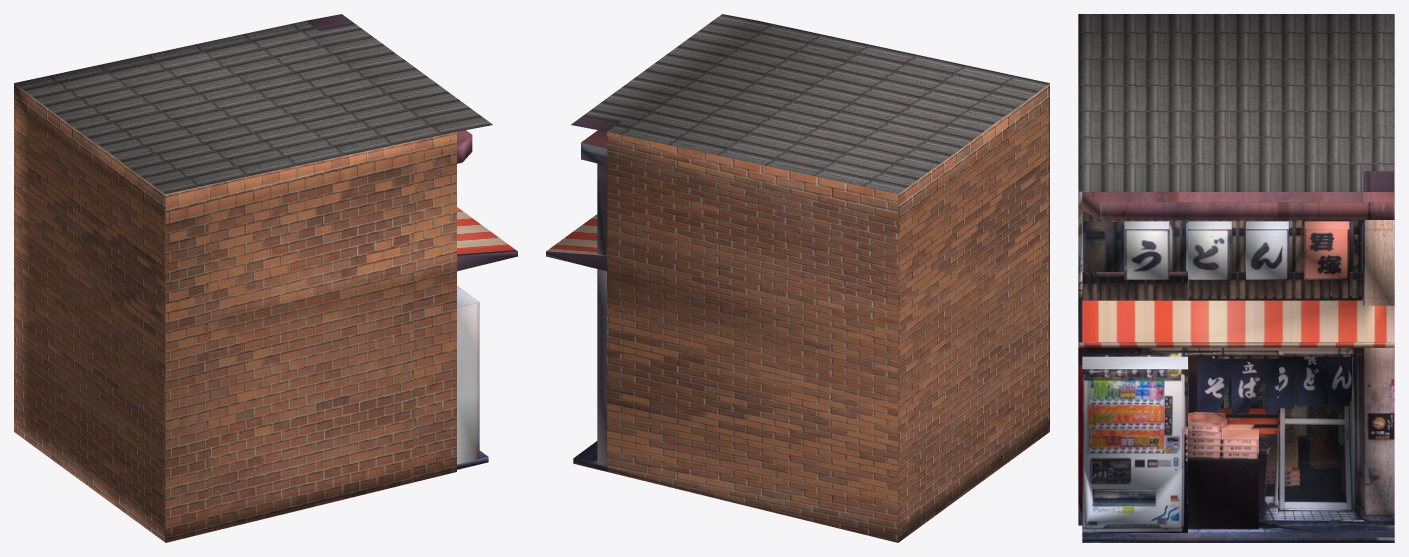
Rendered from japanese_shop.glb.
3 renders of one model, left to right at view 1: azimuth 30°, elevation 25°; view 2: azimuth 150°, elevation 25°; view 3: azimuth 270°, elevation 25°, orthographic. The views are drawn at different scales.
Parts seen in each view (by area): view 1: edificojapopn_1; view 2: edificojapopn_1; view 3: edificojapopn_1.
Part boxes in pixels (x1,y1,x2,y2): edificojapopn_1: [14, 14, 517, 542]; edificojapopn_1: [546, 14, 1049, 542]; edificojapopn_1: [1078, 14, 1394, 542].
Size of the model in its own units: 3.62 by 3.43 by 2.7.
1 material, 1 textured.
